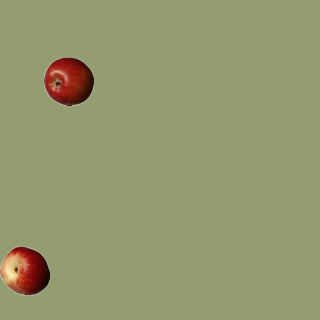Apple Braeburn: (43, 56, 93, 106)
Nectarine: (0, 245, 49, 295)
